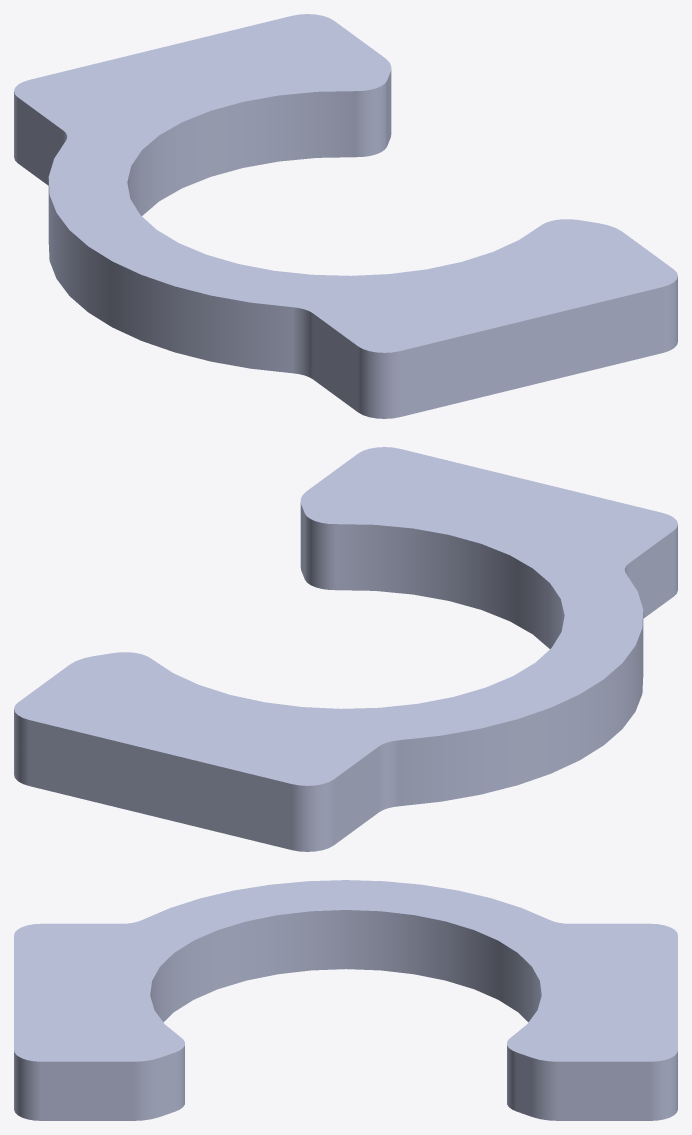
3 views of the same model, one above another, from view 1: azimuth 30°, elevation 25°; view 2: azimuth 150°, elevation 25°; view 3: azimuth 270°, elevation 25° (orthographic). The views are drawn at different scales.
Parts seen in each view (by area): view 1: Body1; view 2: Body1; view 3: Body1.
Part boxes in pixels (x1,y1,x2,y2): Body1: [14, 14, 677, 418]; Body1: [14, 447, 677, 851]; Body1: [14, 880, 677, 1120].
Size of the model in its own units: 0.079 by 0.012 by 0.122.
